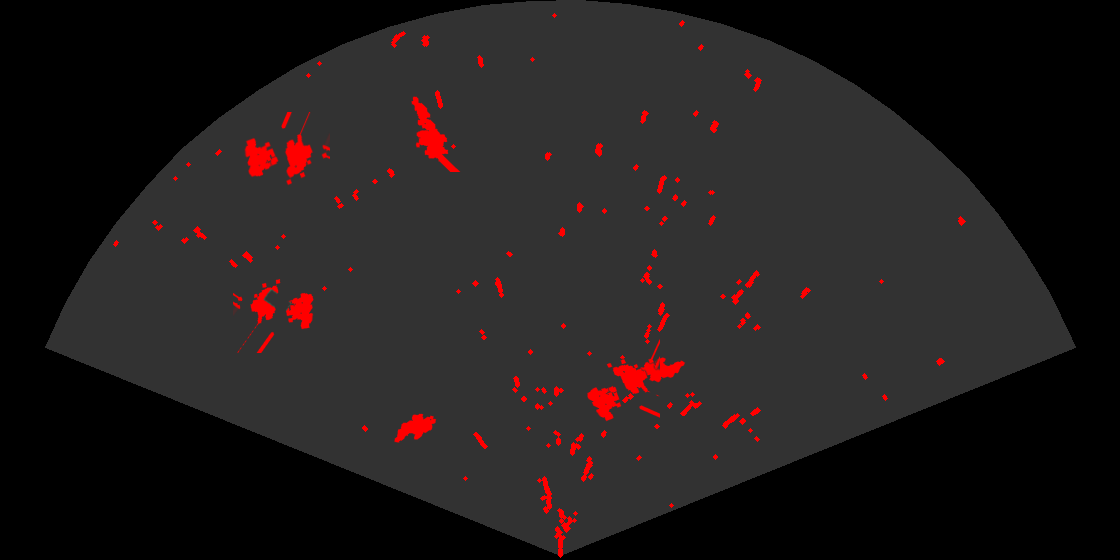AUV: (393, 412, 438, 444), (637, 356, 686, 384)
cage: (243, 112, 330, 187), (586, 338, 660, 423), (233, 277, 315, 353)
frogman: (410, 95, 462, 172)
